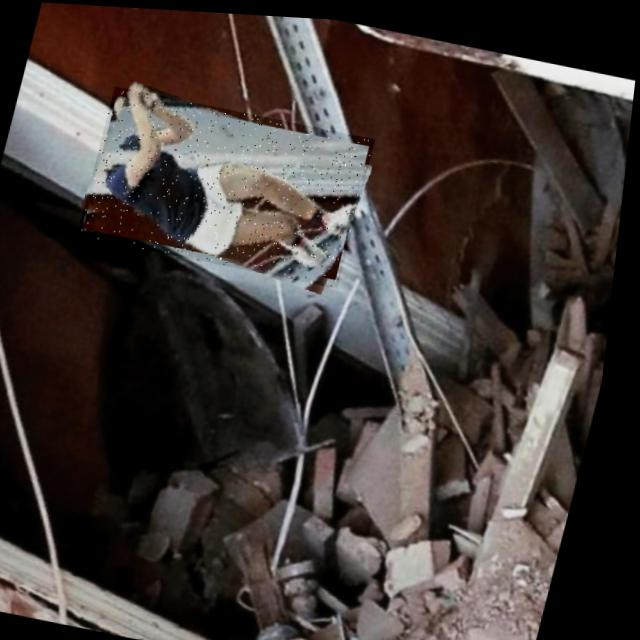Person in Rubble: (79, 83, 382, 284)
